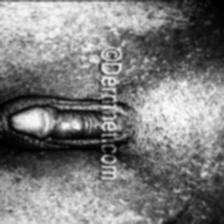Toxin: (100, 11, 188, 55), (152, 211, 200, 224)
